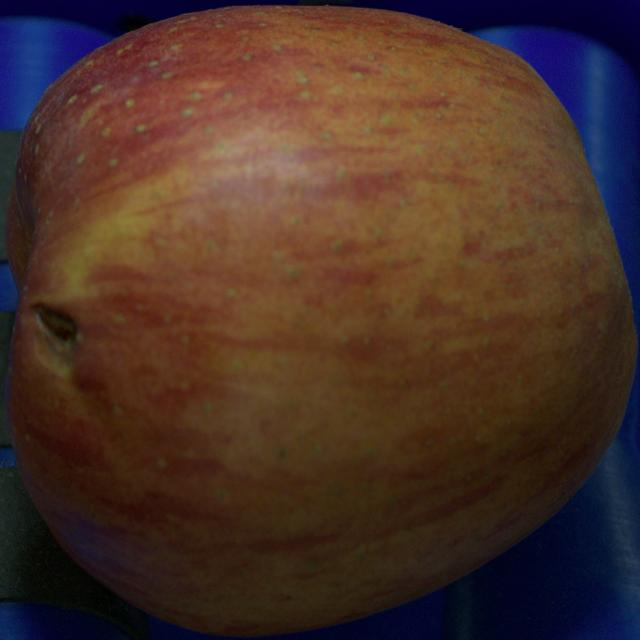apple: (5, 6, 637, 635)
bruise: (32, 326, 80, 378)
pest: (36, 306, 77, 346)
